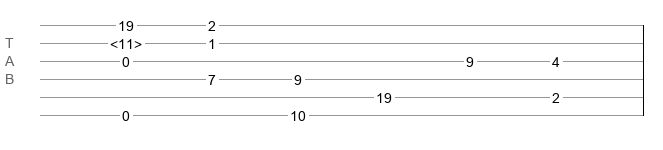0: (122, 108, 130, 118), (122, 54, 130, 64)
1: (208, 36, 216, 46)
10: (290, 108, 306, 118)
19: (118, 18, 134, 28), (376, 90, 392, 100)
2: (208, 18, 216, 28), (552, 90, 560, 100)
4: (552, 54, 560, 64)
7: (208, 72, 216, 82)
9: (294, 72, 302, 82), (466, 54, 474, 64)
harmonic: (110, 36, 142, 46)
